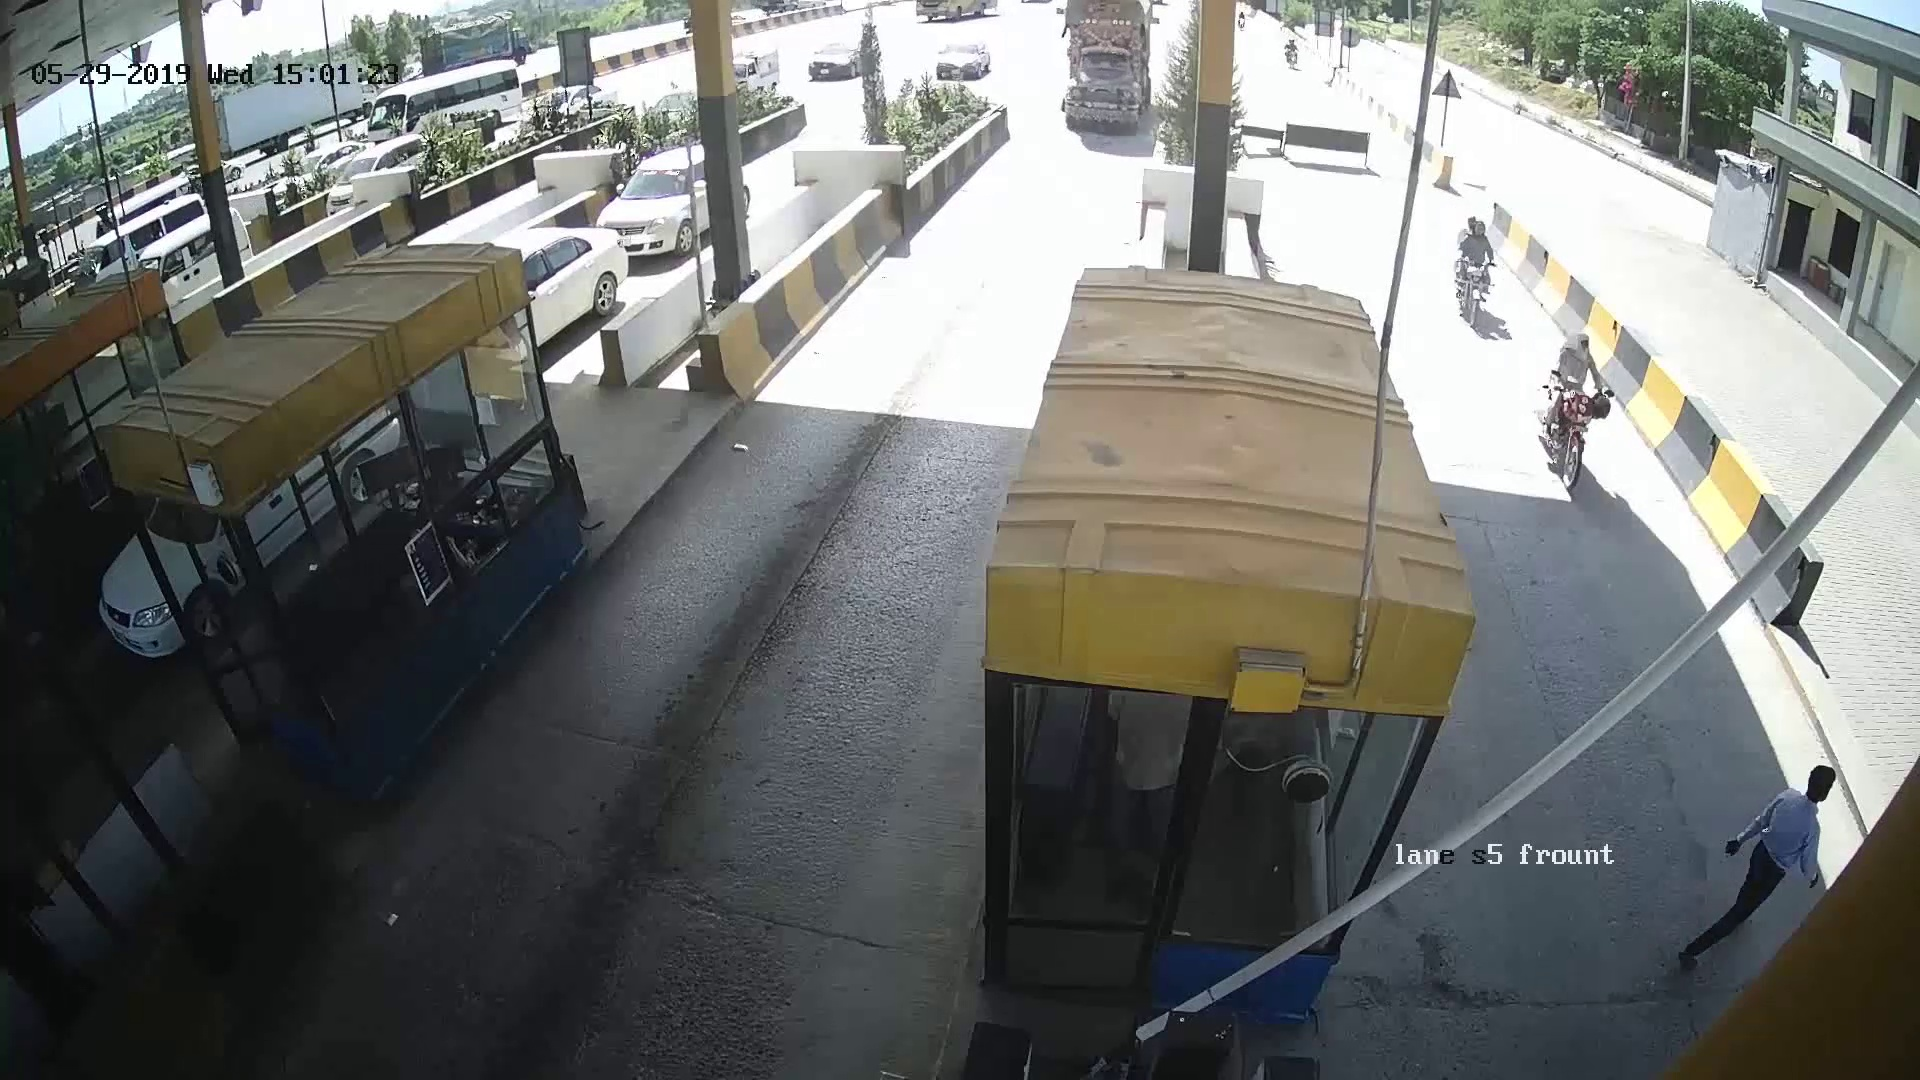truck: (1042, 9, 1164, 142)
